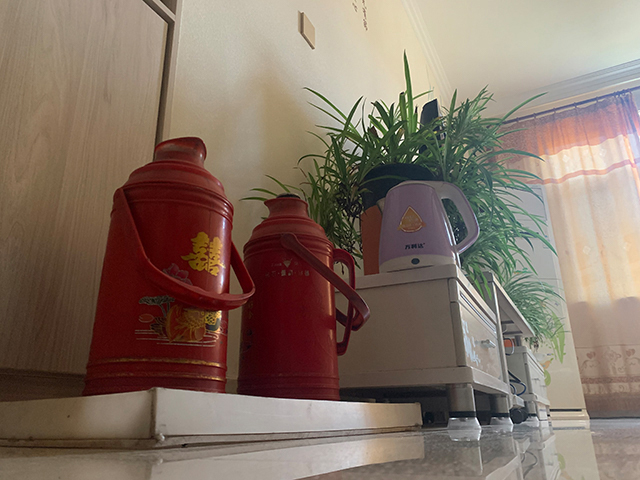cabinet: (334, 263, 550, 431)
curtain: (484, 90, 640, 417)
